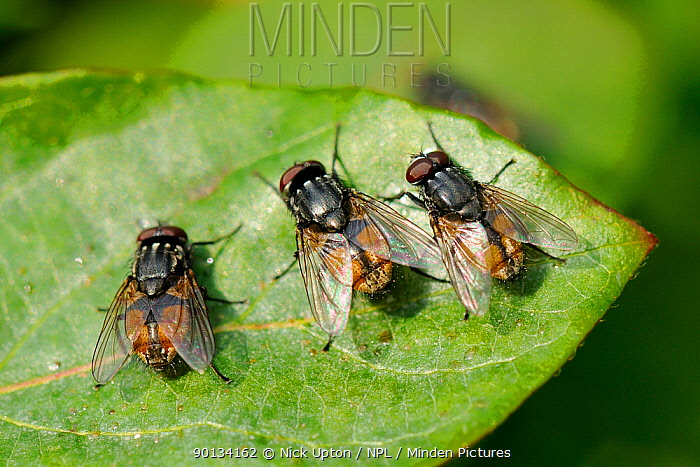fly: (380, 139, 581, 318), (270, 153, 447, 352), (74, 215, 249, 387)
